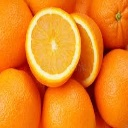orange: (25, 5, 81, 87)
